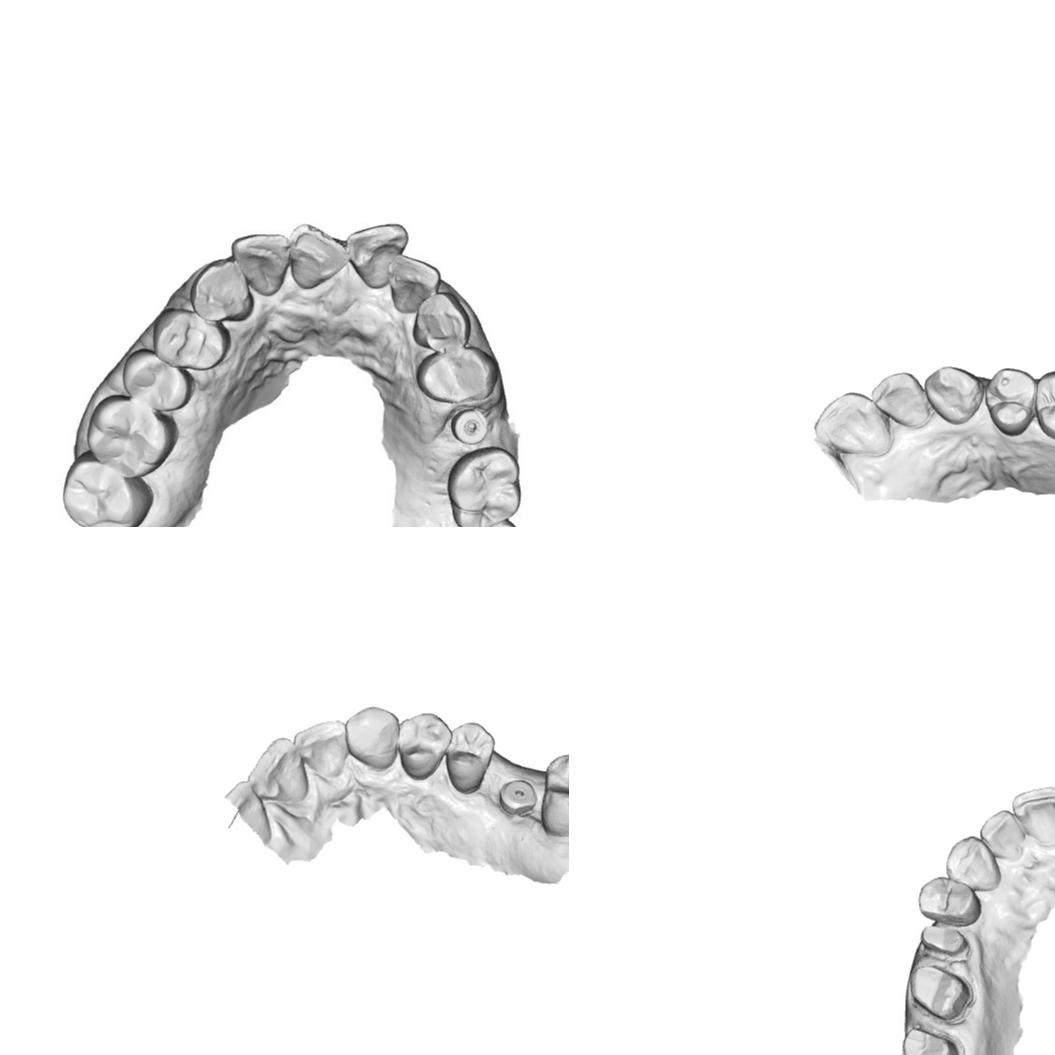canine: (344, 704, 401, 772), (410, 290, 473, 350), (196, 264, 258, 320), (944, 834, 1002, 892), (926, 364, 982, 423)
crown: (906, 964, 978, 1026), (918, 924, 974, 964), (897, 1024, 966, 1055)
implant: (497, 776, 538, 818), (453, 405, 489, 450)
incisor: (812, 388, 891, 460), (246, 736, 310, 804), (289, 222, 345, 295), (870, 369, 934, 432), (292, 718, 348, 780), (223, 779, 273, 844), (348, 224, 403, 283), (385, 259, 443, 314), (237, 233, 286, 293), (1011, 781, 1055, 845), (978, 806, 1026, 862)
molar: (61, 453, 145, 527), (85, 400, 165, 470), (453, 459, 522, 527), (539, 752, 569, 838)
premolar: (412, 348, 497, 403), (396, 711, 454, 782), (444, 720, 496, 794), (982, 365, 1035, 435), (915, 875, 982, 928), (162, 314, 226, 367), (127, 354, 189, 408), (1034, 369, 1055, 440)
